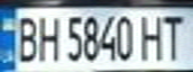0: (115, 11, 139, 62)
4: (100, 11, 121, 62)
5: (60, 11, 84, 62)
8: (81, 11, 100, 62)
B: (9, 11, 42, 63)
H: (136, 11, 169, 62), (33, 11, 60, 63)
T: (157, 11, 190, 61)
